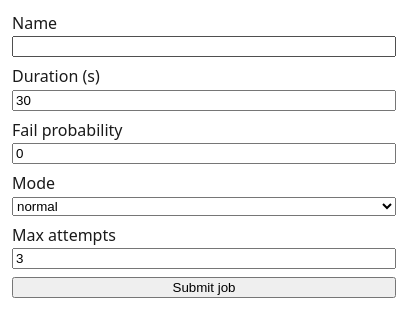
Test: SubmitJobForm client validation (AC-14) › re-checks a field in error as it is edited, and only those
Step 1. Click the button "Submit job" → (204, 288), box [12,277,396,298]
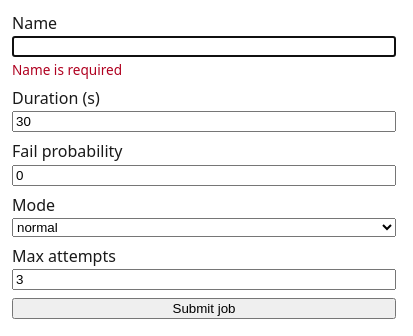
Now the text "Name is required" is shown, box [12,60,122,79]
Step 2. Replace the text in the field labelled "Duration (s)" with "abc" → (204, 122), box [12,111,396,132]
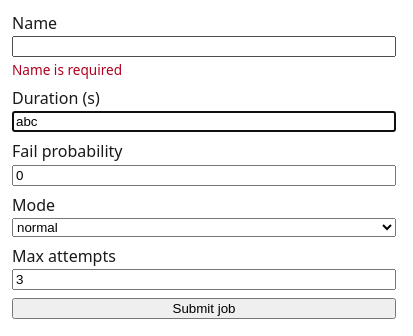
Step 3. Type "a" into the field labelled "Name" → (204, 47), box [12,36,396,57]
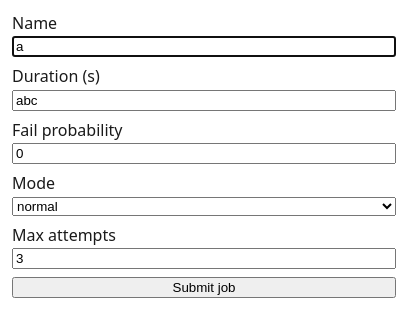
Now the text "Name is required" is gone
